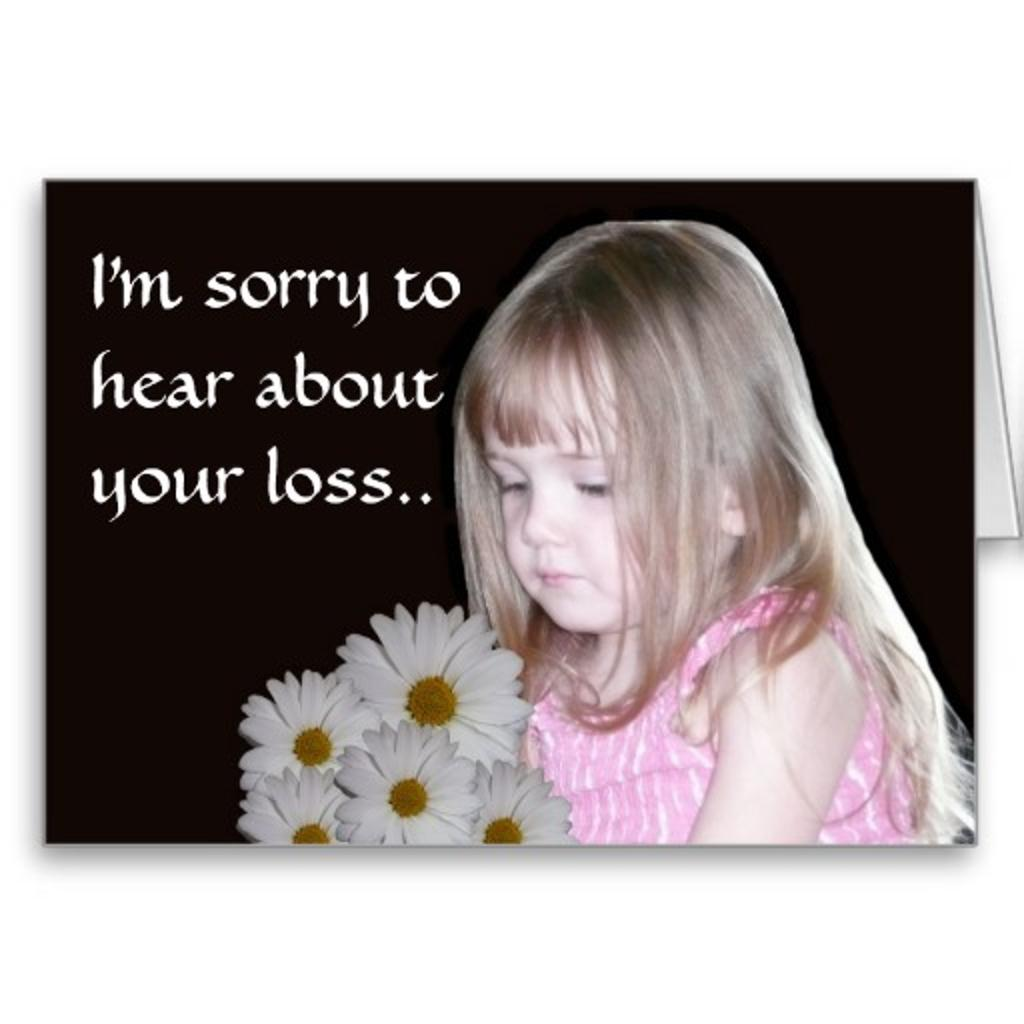face: (484, 358, 722, 628)
